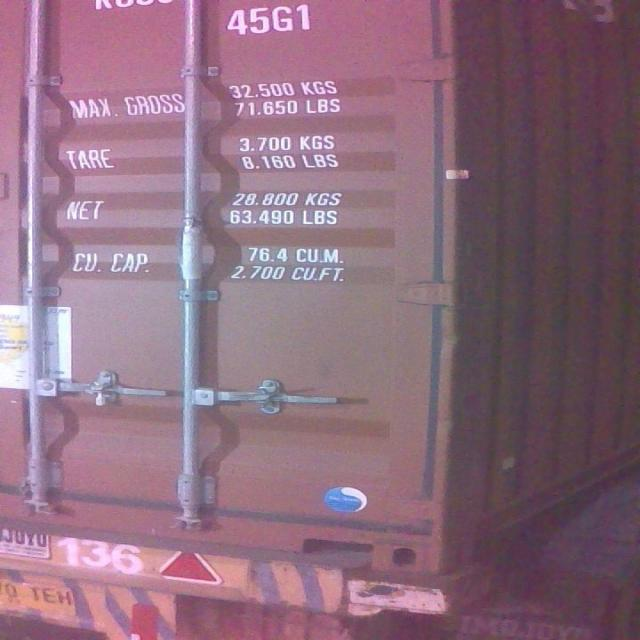seal: (89, 374, 120, 408)
